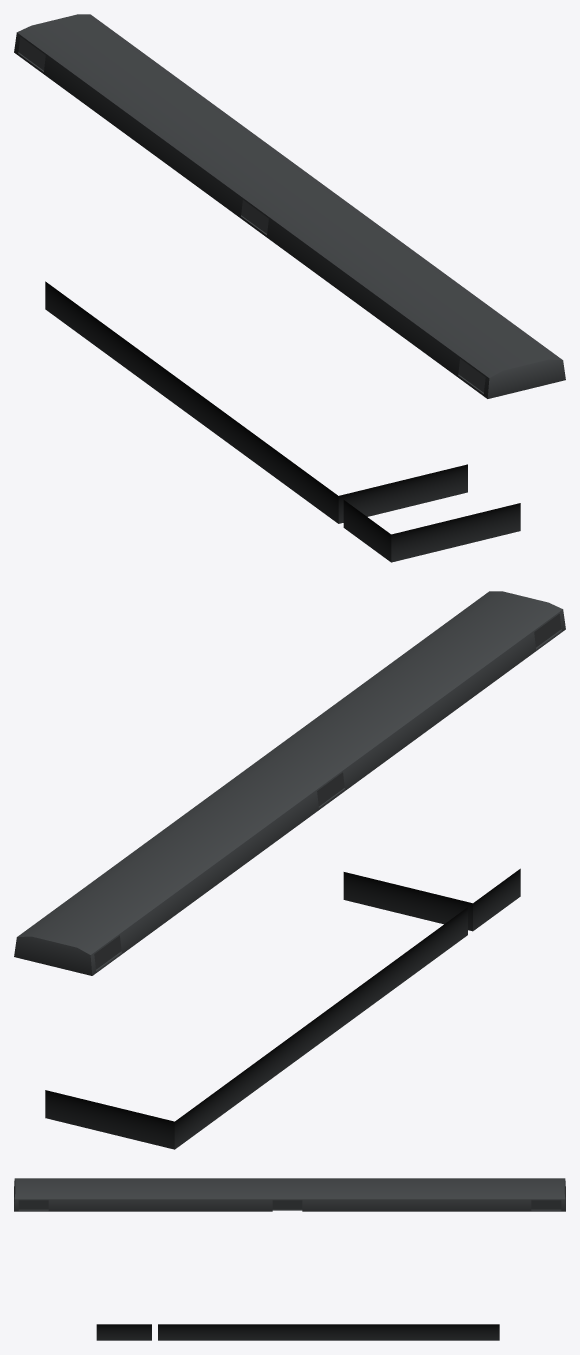
File: UV_PANTA02.glb
3 renders of one model, top to bottom at view 1: azimuth 30°, elevation 25°; view 2: azimuth 150°, elevation 25°; view 3: azimuth 270°, elevation 25°, orthographic. The views are drawn at different scales.
Visible parts, largest first — view 1: obj1; view 2: obj1; view 3: obj1.
Part boxes in pixels (x1,y1,x2,y2): obj1: [14, 14, 565, 562]; obj1: [14, 591, 565, 1149]; obj1: [14, 1178, 565, 1340].
Size of the model in its own units: 4.96 by 8.52 by 31.42.
1 material, 1 textured.
